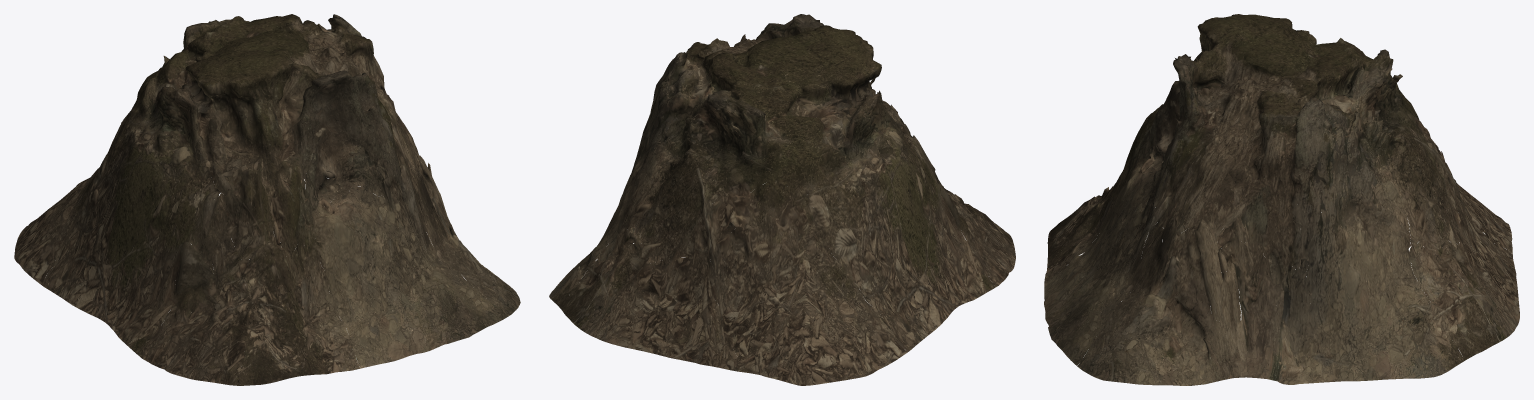
The model's file is RF3_Root_Stump.fbx.
3 renders of one model, left to right at view 1: azimuth 30°, elevation 25°; view 2: azimuth 150°, elevation 25°; view 3: azimuth 270°, elevation 25°, orthographic. The views are drawn at different scales.
Parts seen in each view (by area): view 1: RF3_Root_Stump; view 2: RF3_Root_Stump; view 3: RF3_Root_Stump.
Part boxes in pixels (x1,y1,x2,y2): RF3_Root_Stump: [14, 14, 520, 385]; RF3_Root_Stump: [549, 14, 1015, 385]; RF3_Root_Stump: [1044, 14, 1519, 385].
Bounding box in the file's own units: 495 × 330 × 550.
